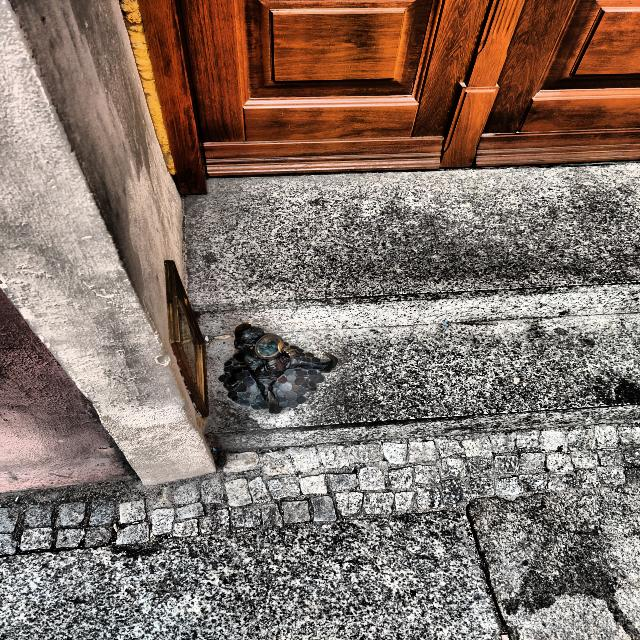Numizmatyk: (218, 322, 338, 414)
